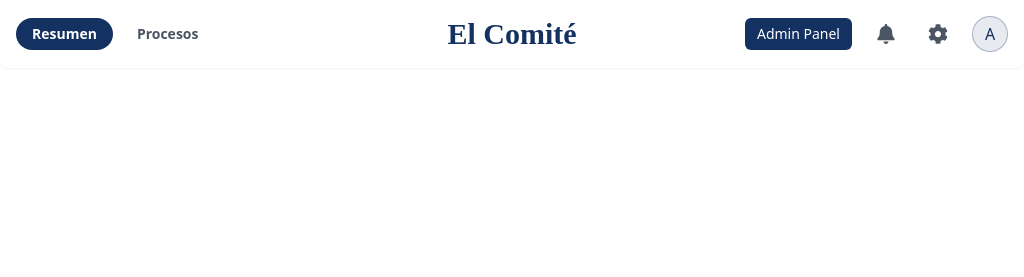
Scenario: Header › should open user menu when avatar is clicked
The image size is (1024, 277).
What coordinates should you click on to do the following:
click the button "A"
I would click on:
 (990, 34)
Its box is [972,16,1008,52].
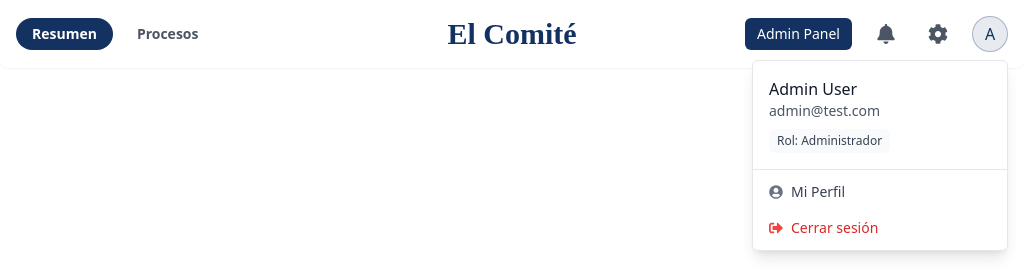
Now the text "Admin User" is shown, box [769,78,857,100]
Now the text "admin@test.com" is shown, box [769,101,880,120]
Now the button "Mi Perfil" is shown, box [753,174,1007,210]
